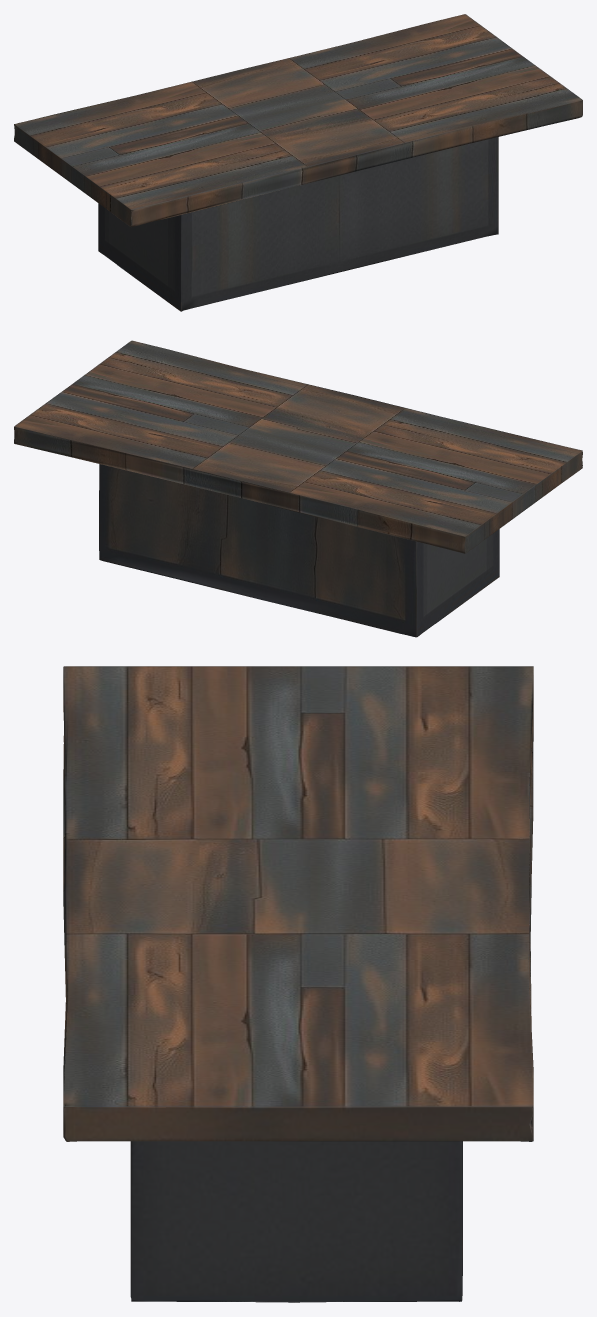
File: office-conference-table.glb
The picture shows the model from 3 angles, top to bottom: view 1: azimuth 30°, elevation 25°; view 2: azimuth 150°, elevation 25°; view 3: azimuth 270°, elevation 25°; orthographic projection. The views are drawn at different scales.
Visible parts, largest first — view 1: conference-table; view 2: conference-table; view 3: conference-table.
Boxes of the visible parts, <box> form: conference-table: <box>14,14,582,311</box>; conference-table: <box>14,340,582,637</box>; conference-table: <box>63,666,533,1302</box>.
Size of the model in its own units: 3 by 0.8298 by 1.35.
Materials: 1 (1 with a texture image).
